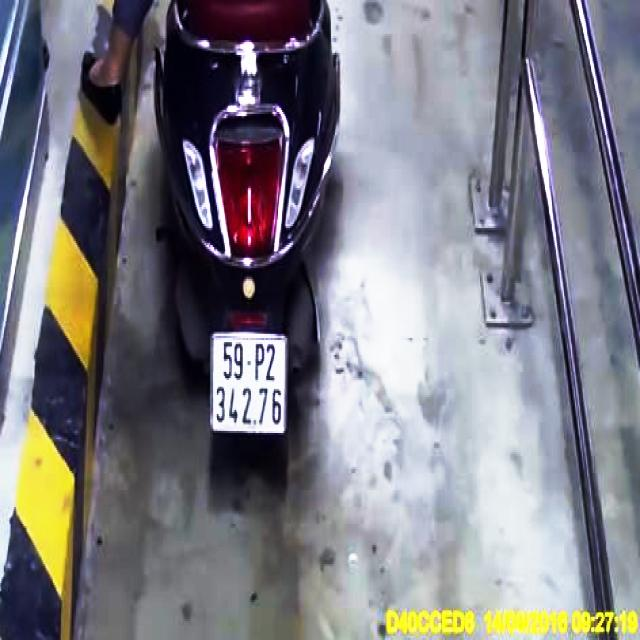license_plate: (213, 333, 289, 435)
